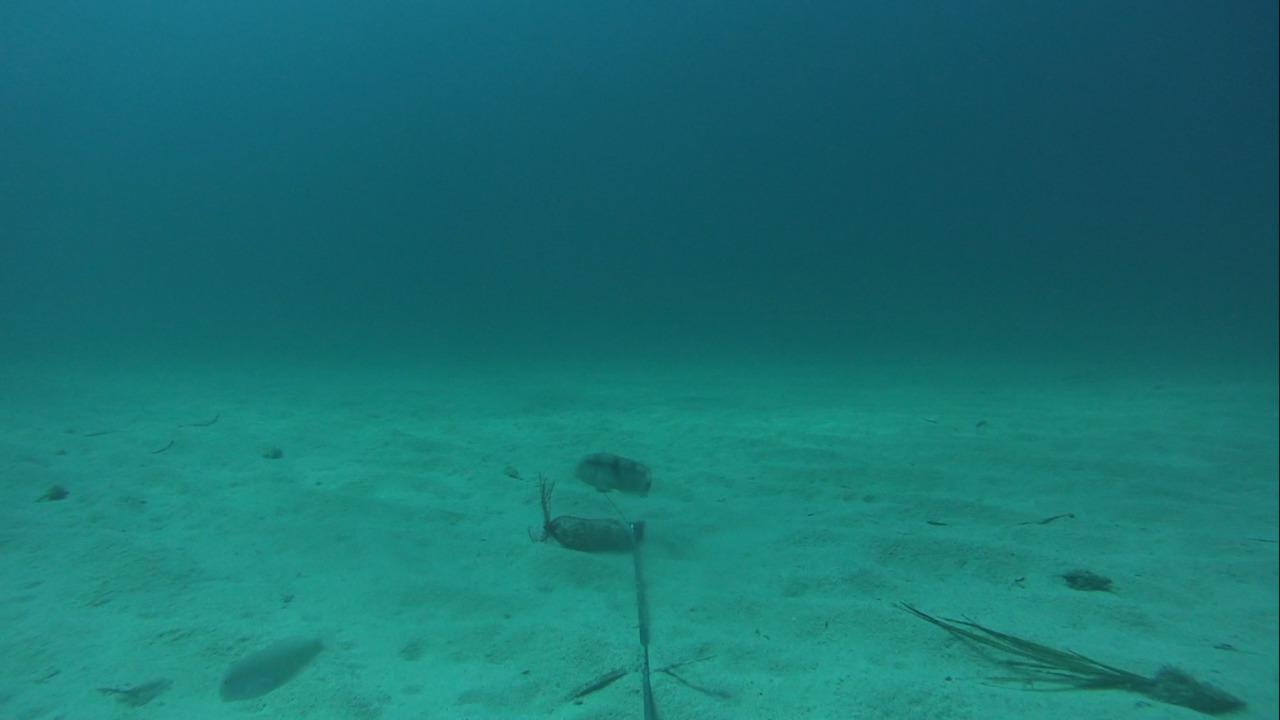raor: (216, 633, 323, 705), (568, 450, 660, 497)
